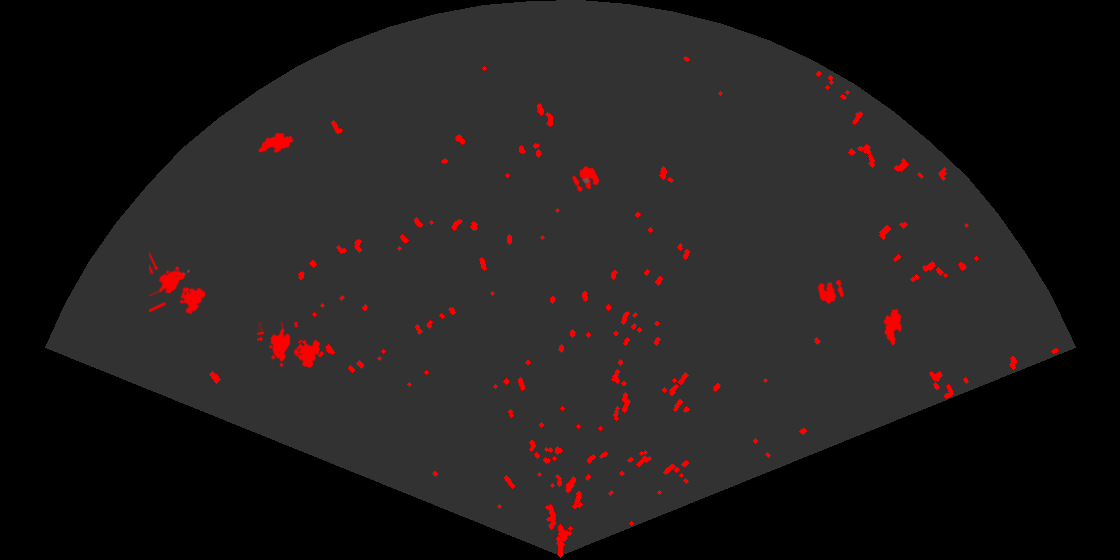AUV: (256, 131, 296, 154), (882, 307, 903, 347)
ball: (571, 165, 601, 194), (816, 278, 845, 305)
cage: (149, 250, 207, 316), (257, 322, 322, 370)
